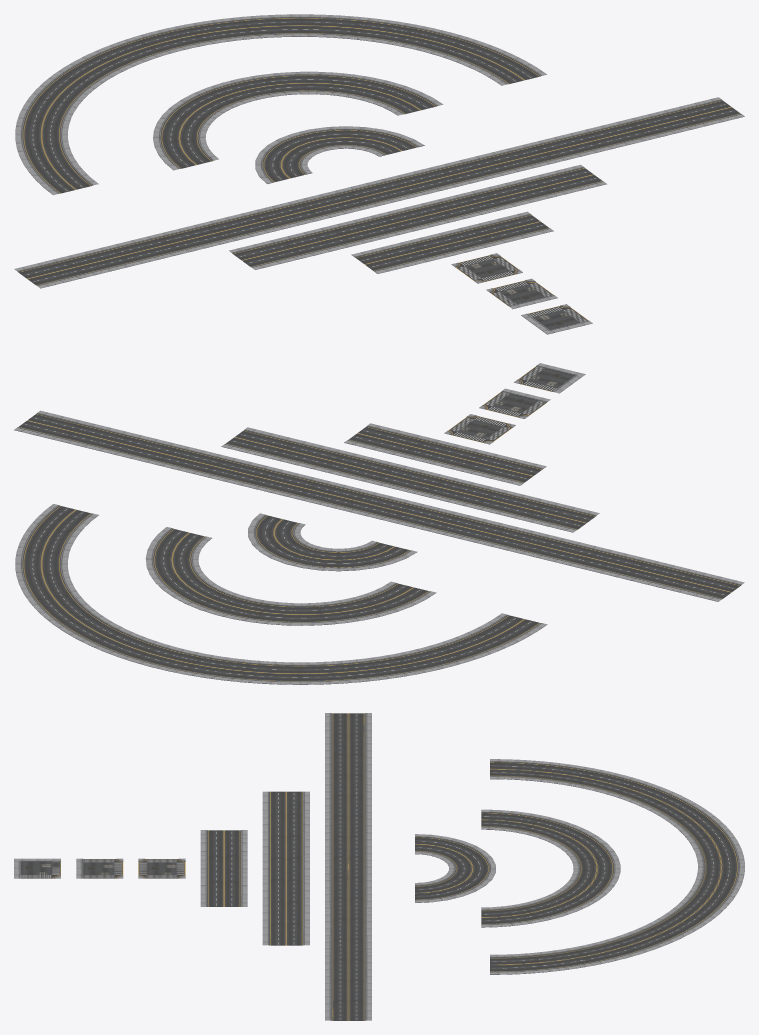
The model's file is modular_roads_pack.glb.
3 renders of one model, top to bottom at view 1: azimuth 30°, elevation 25°; view 2: azimuth 150°, elevation 25°; view 3: azimuth 270°, elevation 25°, orthographic. The views are drawn at different scales.
Visible parts, largest first — view 1: Road_4X_Straight, Road_4X_HalfCircle, Road_2X_Straight, Road_2X_HalfCircle, Road_1X_Straight, Road_1X_HalfCircle, Road_X_Intersection, Road_L_Intersection, Road_T_Intersection; view 2: Road_4X_Straight, Road_4X_HalfCircle, Road_2X_Straight, Road_2X_HalfCircle, Road_1X_Straight, Road_1X_HalfCircle, Road_L_Intersection, Road_T_Intersection, Road_X_Intersection; view 3: Road_4X_HalfCircle, Road_4X_Straight, Road_2X_HalfCircle, Road_2X_Straight, Road_1X_HalfCircle, Road_1X_Straight, Road_L_Intersection, Road_X_Intersection, Road_T_Intersection.
Part boxes in pixels (x1,y1,x2,y2): Road_4X_Straight: [14, 97, 744, 288]; Road_4X_HalfCircle: [15, 14, 546, 194]; Road_2X_Straight: [229, 164, 606, 269]; Road_2X_HalfCircle: [153, 71, 443, 170]; Road_1X_Straight: [351, 211, 553, 273]; Road_1X_HalfCircle: [255, 126, 424, 183]; Road_X_Intersection: [451, 253, 522, 283]; Road_L_Intersection: [521, 304, 592, 334]; Road_T_Intersection: [486, 278, 557, 309]; Road_4X_Straight: [14, 410, 744, 601]; Road_4X_HalfCircle: [15, 504, 547, 684]; Road_2X_Straight: [221, 427, 599, 532]; Road_2X_HalfCircle: [145, 527, 436, 625]; Road_1X_Straight: [344, 423, 546, 485]; Road_1X_HalfCircle: [248, 513, 417, 571]; Road_L_Intersection: [514, 363, 585, 393]; Road_T_Intersection: [479, 388, 550, 418]; Road_X_Intersection: [444, 414, 515, 444]; Road_4X_HalfCircle: [490, 759, 744, 974]; Road_4X_Straight: [325, 713, 371, 1020]; Road_2X_HalfCircle: [481, 809, 620, 927]; Road_2X_Straight: [262, 791, 309, 945]; Road_1X_HalfCircle: [415, 834, 495, 902]; Road_1X_Straight: [200, 830, 247, 906]; Road_L_Intersection: [14, 858, 60, 878]; Road_X_Intersection: [138, 858, 185, 878]; Road_T_Intersection: [76, 858, 123, 878].
Bounding box in the file's own units: 585 × 0.3067 × 588.
2 materials, 2 textured.
